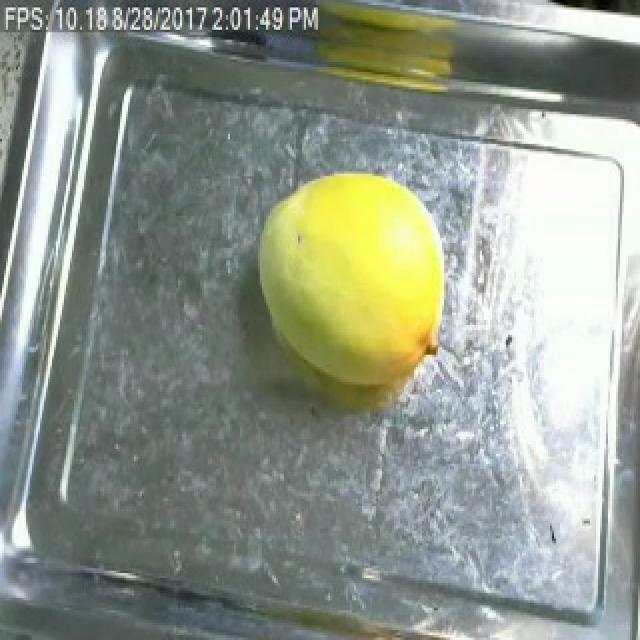fruit: (238, 152, 464, 410), (286, 0, 476, 114)
